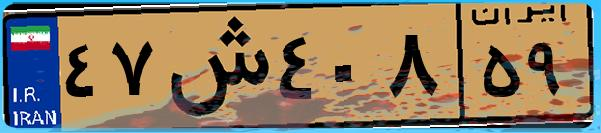0: (330, 28, 385, 110)
4: (270, 28, 330, 110), (57, 26, 110, 100)
5: (475, 38, 525, 113)
7: (110, 28, 158, 98)
8: (385, 28, 445, 110)
9: (525, 38, 570, 115)
ش: (158, 12, 270, 120)
